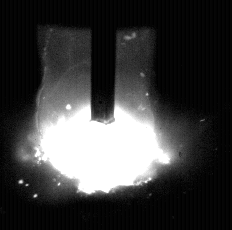arame: (91, 0, 117, 125)
poca: (33, 0, 164, 230)
